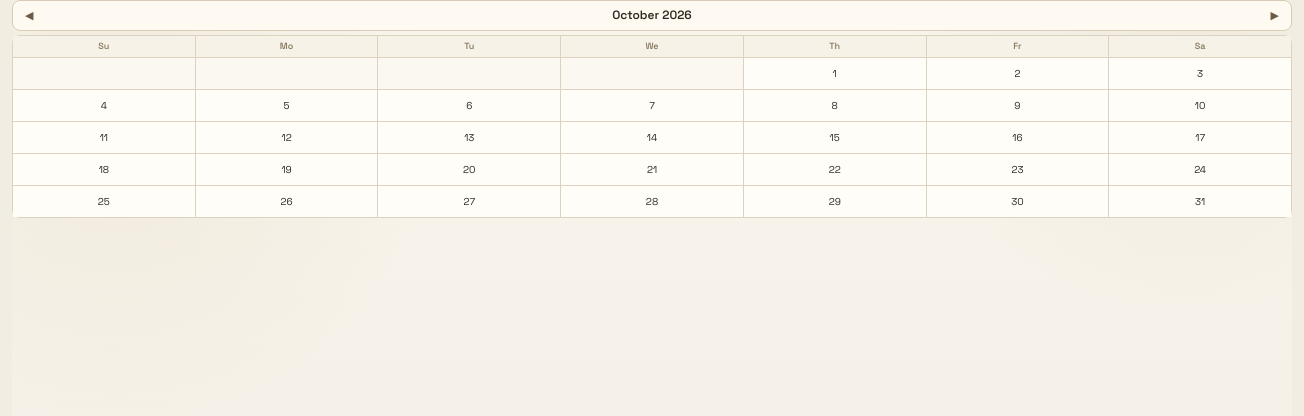
Calendar › filters a day's appointments by status
This screenshot has width=1304, height=416.
Click the button "15" at (835, 138), box [744,122,926,153]
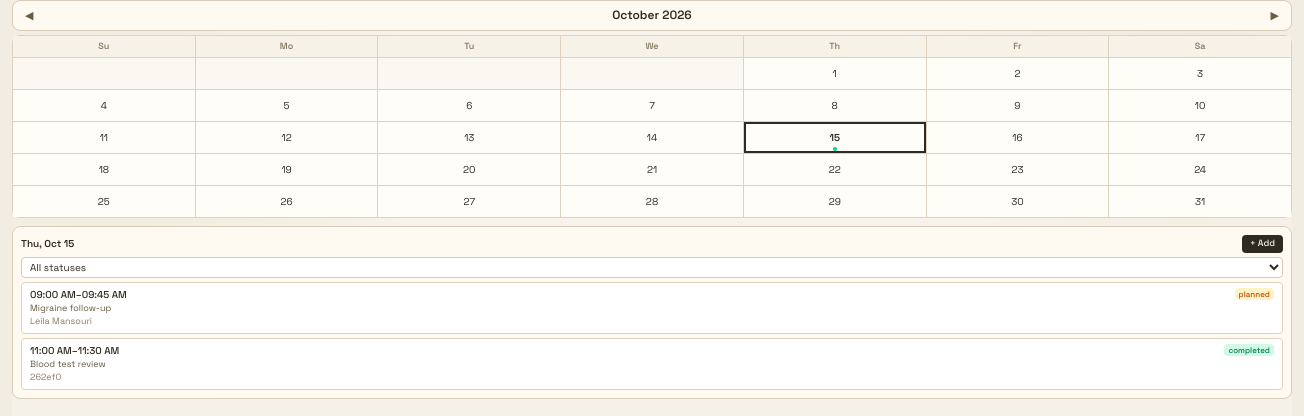
Now the text "Migraine follow-up" is shown, box [30,302,111,314]
Select "Completed" in the dropdown showing "All statuses" at (652, 267), box [21,256,1283,278]
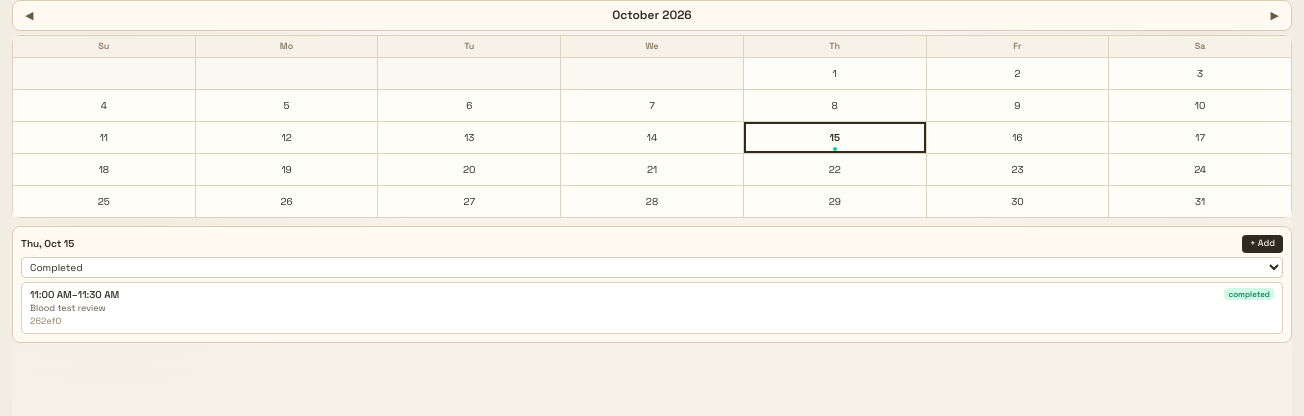
Now the text "Blood test review" is shown, box [30,302,106,314]
Now the button "Migraine follow-up" is gone
